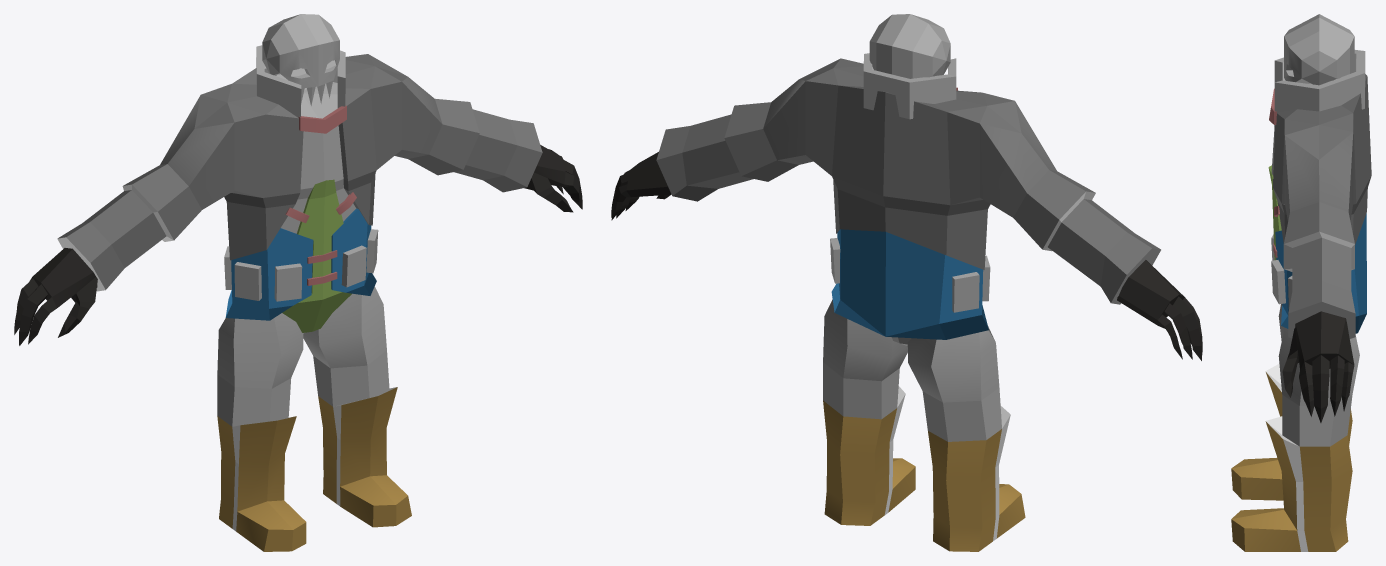
File: skull.fbx
3 renders of one model, left to right at view 1: azimuth 30°, elevation 25°; view 2: azimuth 150°, elevation 25°; view 3: azimuth 270°, elevation 25°, orthographic. The views are drawn at different scales.
Parts seen in each view (by area): view 1: pCylinder1, pCylinder2, pCylinder3, pSphere2, MEAT_6:pCylinder19, MEAT_7:pCube9, pTorus1, pCube2, pCube3, MEAT_8:pCylinder19, MEAT_3:pCube9, pasted__pCube5; view 2: pCylinder1, pCylinder2, pCylinder3, pSphere2, pTorus1, MEAT_6:pCylinder19, pCube3, MEAT_7:pCube9, MEAT_8:pCylinder19, MEAT_3:pCube9; view 3: pCylinder2, pCylinder3, pCylinder1, pSphere2, pTorus1, MEAT_3:pCube9, MEAT_8:pCylinder19, pCube2.
Part boxes in pixels (x1=…): pCylinder1: x1=194, y1=54, x2=407, y2=332; pCylinder2: x1=217, y1=286, x2=411, y2=551; pCylinder3: x1=57, y1=77, x2=542, y2=291; pSphere2: x1=262, y1=14, x2=339, y2=88; MEAT_6:pCylinder19: x1=29, y1=248, x2=97, y2=307; MEAT_7:pCube9: x1=14, y1=278, x2=94, y2=345; pTorus1: x1=256, y1=45, x2=345, y2=117; pCube2: x1=274, y1=245, x2=366, y2=301; pCube3: x1=224, y1=229, x2=378, y2=300; MEAT_8:pCylinder19: x1=524, y1=145, x2=565, y2=193; MEAT_3:pCube9: x1=537, y1=156, x2=582, y2=212; pasted__pCube5: x1=298, y1=105, x2=346, y2=133; pCylinder1: x1=799, y1=58, x2=1021, y2=345; pCylinder2: x1=823, y1=299, x2=1025, y2=551; pCylinder3: x1=656, y1=79, x2=1160, y2=304; pSphere2: x1=869, y1=14, x2=950, y2=78; pTorus1: x1=863, y1=53, x2=956, y2=119; MEAT_6:pCylinder19: x1=1117, y1=260, x2=1184, y2=325; pCube3: x1=830, y1=238, x2=990, y2=312; MEAT_7:pCube9: x1=1157, y1=296, x2=1202, y2=360; MEAT_8:pCylinder19: x1=626, y1=152, x2=671, y2=197; MEAT_3:pCube9: x1=611, y1=170, x2=670, y2=220; pCylinder2: x1=1231, y1=304, x2=1359, y2=551; pCylinder3: x1=1283, y1=132, x2=1355, y2=338; pCylinder1: x1=1268, y1=74, x2=1371, y2=333; pSphere2: x1=1284, y1=14, x2=1354, y2=85; pTorus1: x1=1274, y1=50, x2=1365, y2=112; MEAT_3:pCube9: x1=1282, y1=350, x2=1354, y2=422; MEAT_8:pCylinder19: x1=1289, y1=311, x2=1354, y2=370; pCube2: x1=1271, y1=234, x2=1285, y2=304.
Bounding box in the file's own units: 29.14 × 24.39 × 6.23.
